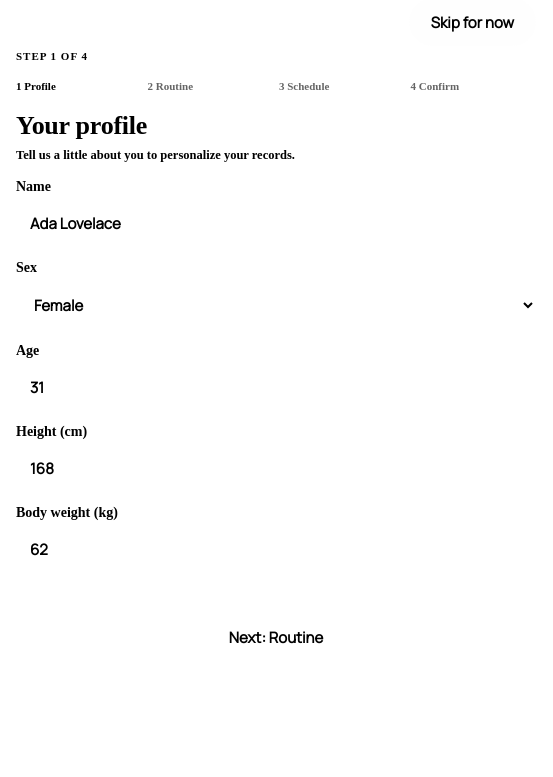
Test: SetupWizard composition › shows plain inline errors after Next on an incomplete routine and never moves on
What coordinates should you click on to do the following:
click the button "Next: Routine"
I would click on:
 (276, 638)
Its box is 16,614 -> 536,662.
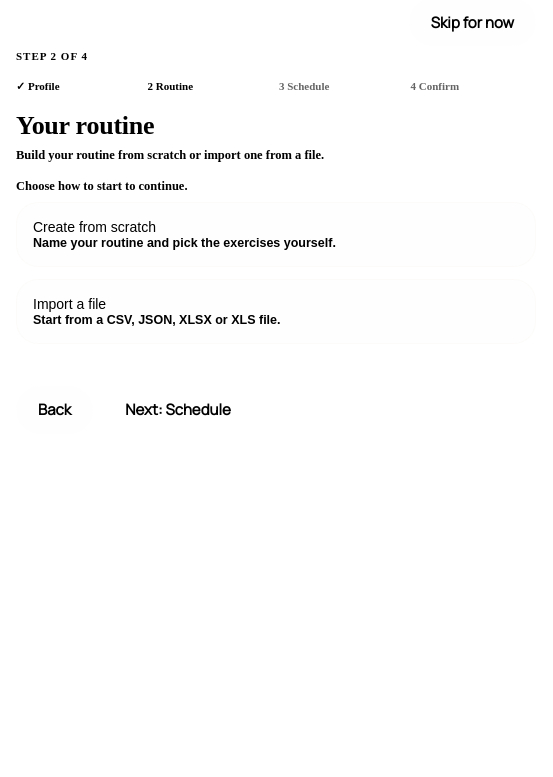
expect the element named "Manual routine editor" is shown: met, box 16,178 -> 536,344
What coordinates should you click on to do the following:
click the button with aria-label "Create from scratch"
I would click on:
 (276, 234)
Its box is 16,202 -> 536,266.
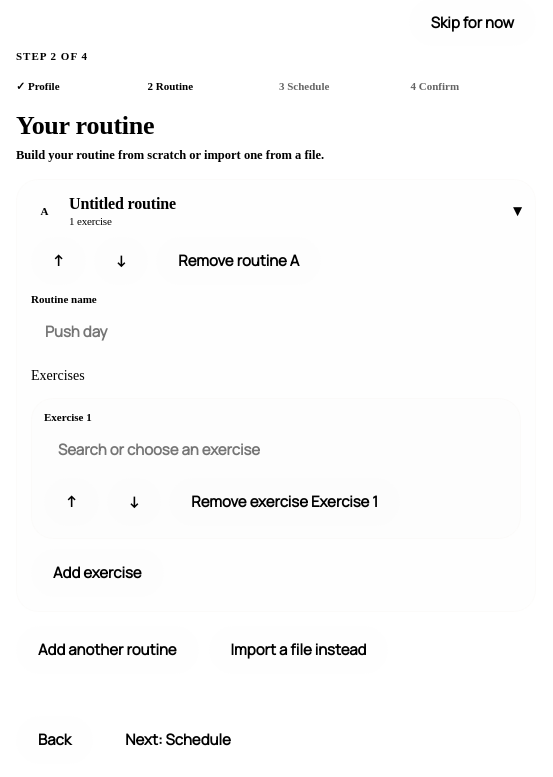
What coordinates should you click on to do the following:
click the button "Next: Schedule"
I would click on:
 (178, 740)
Its box is 103,716 -> 253,764.
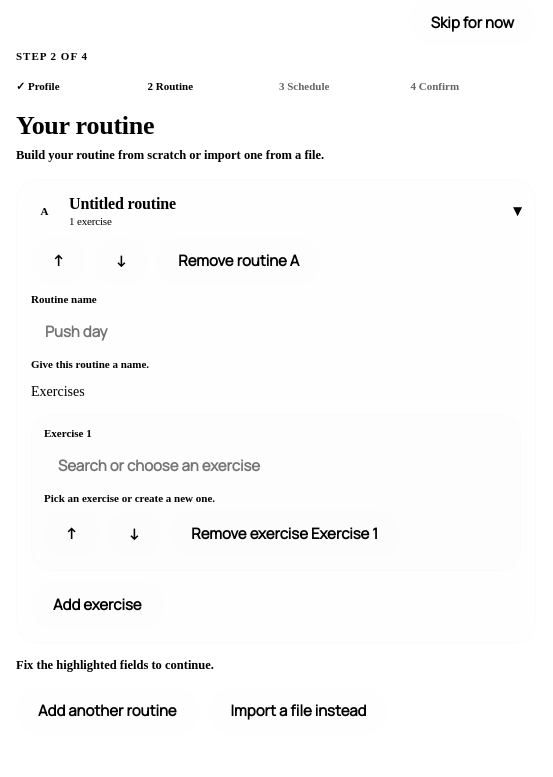
expect the message "Fix the highlighted fields to continue." is shown: met, box 16,658 -> 214,672
expect the text "Give this routine a name." is shown: met, box 31,358 -> 149,370
expect the text "Pick an exercise or create a new one." is shown: met, box 44,492 -> 215,504
